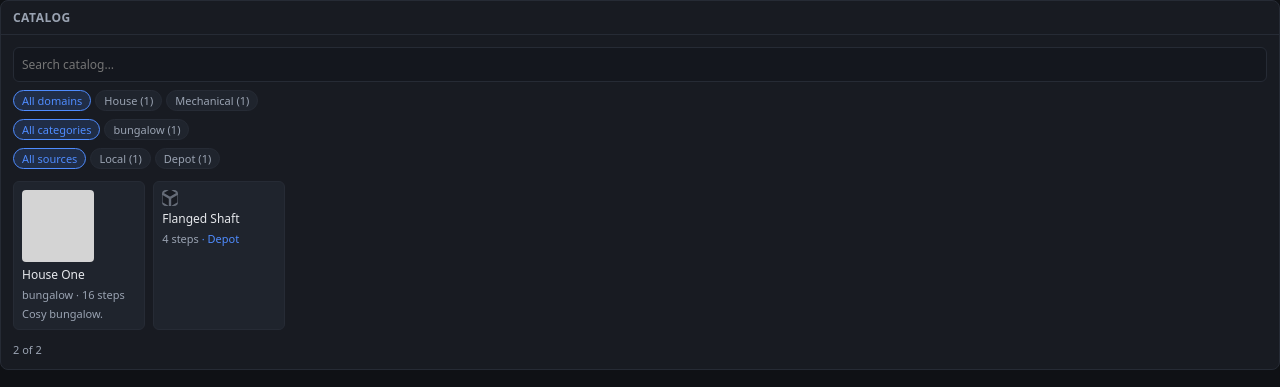
Test: CatalogPanel › shows an empty state when a search matches nothing
Expected: the button "House One" is shown, [13,181,145,330]
Type "no such thing" into the search field labelled "Search catalog" at (640, 64), box [13,47,1267,82]
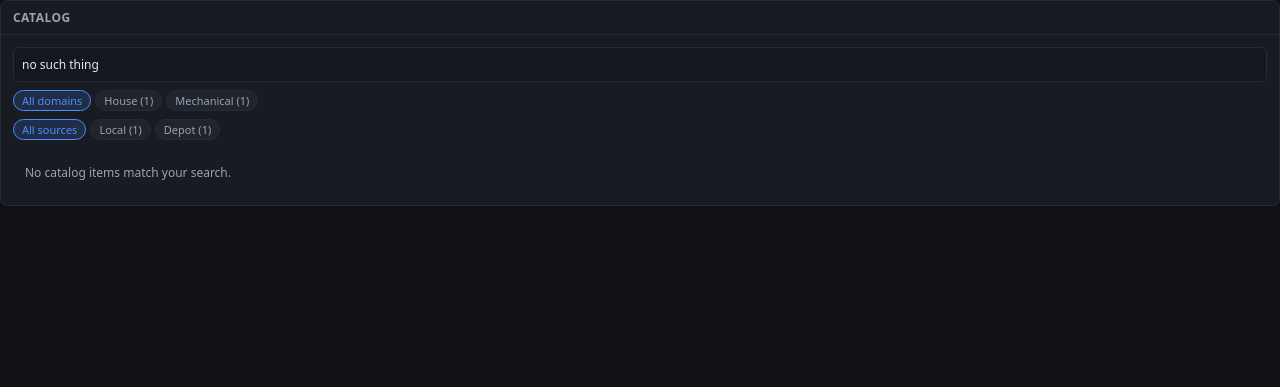
Expected: the text "No catalog items match your search." is shown, [25,164,231,181]
